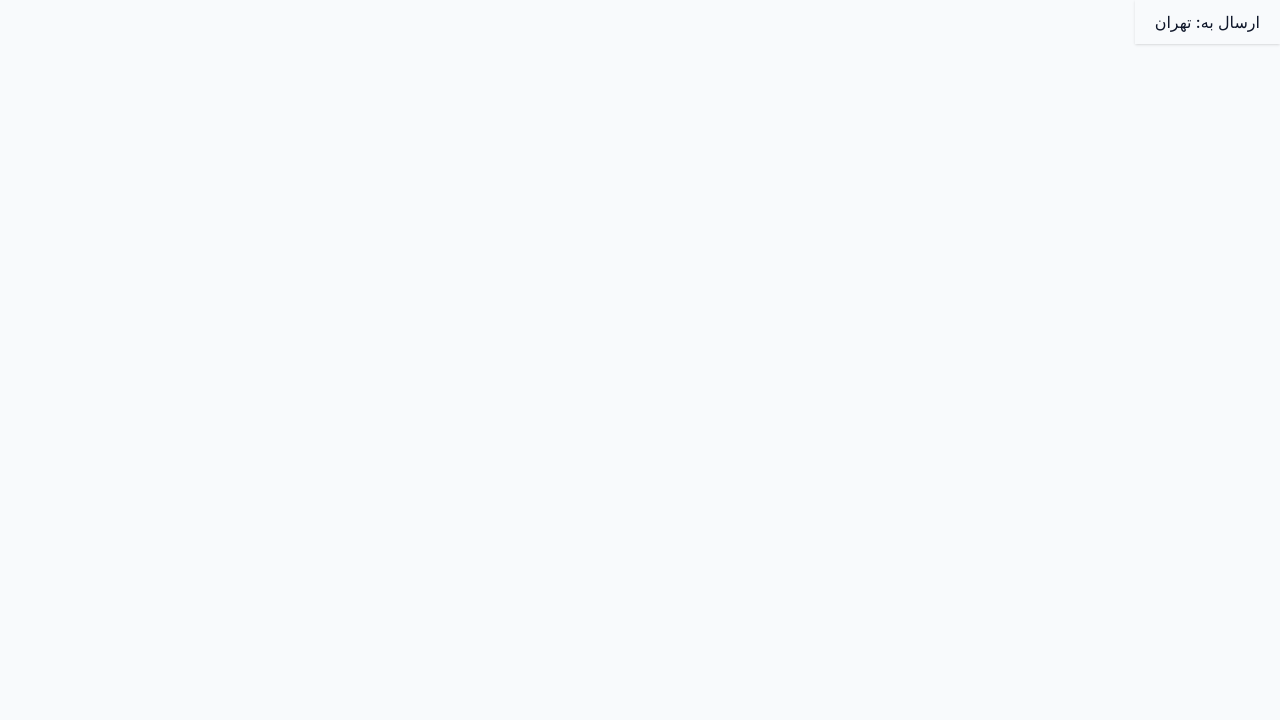
Test case: Popover › opens from its trigger, closes on Escape and from its close button
Click the button "ارسال به: تهران" at [1207, 22], box [1135,0,1279,44]
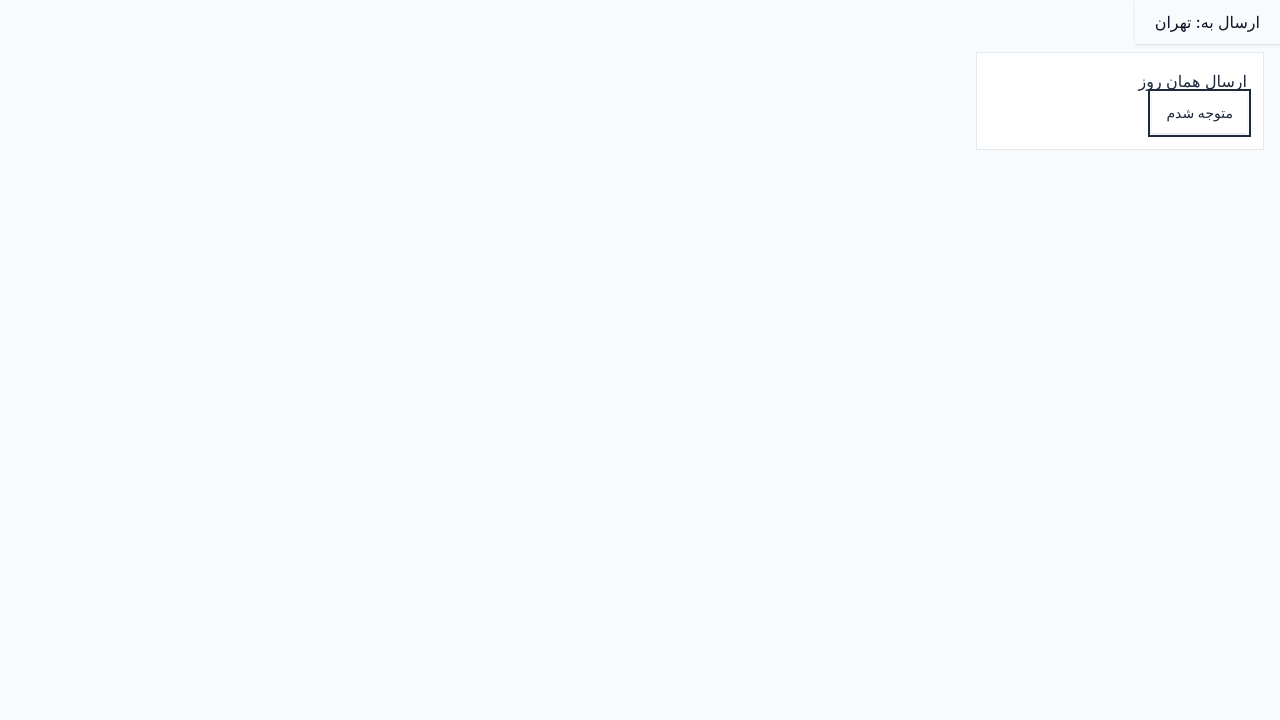
Result: the dialog shows "ارسال همان روز" at [1138,71,1247,91]
Press Escape
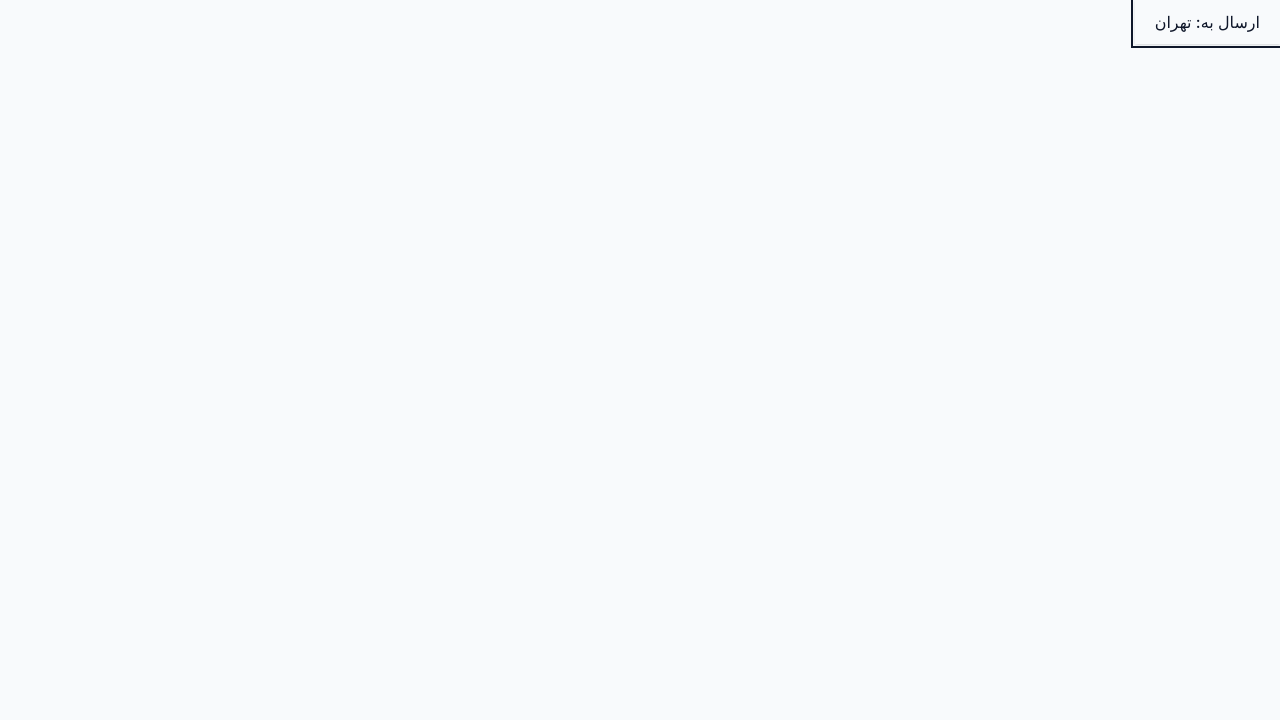
Result: the dialog is gone
Click the button "ارسال به: تهران" at [1207, 22], box [1135,0,1279,44]
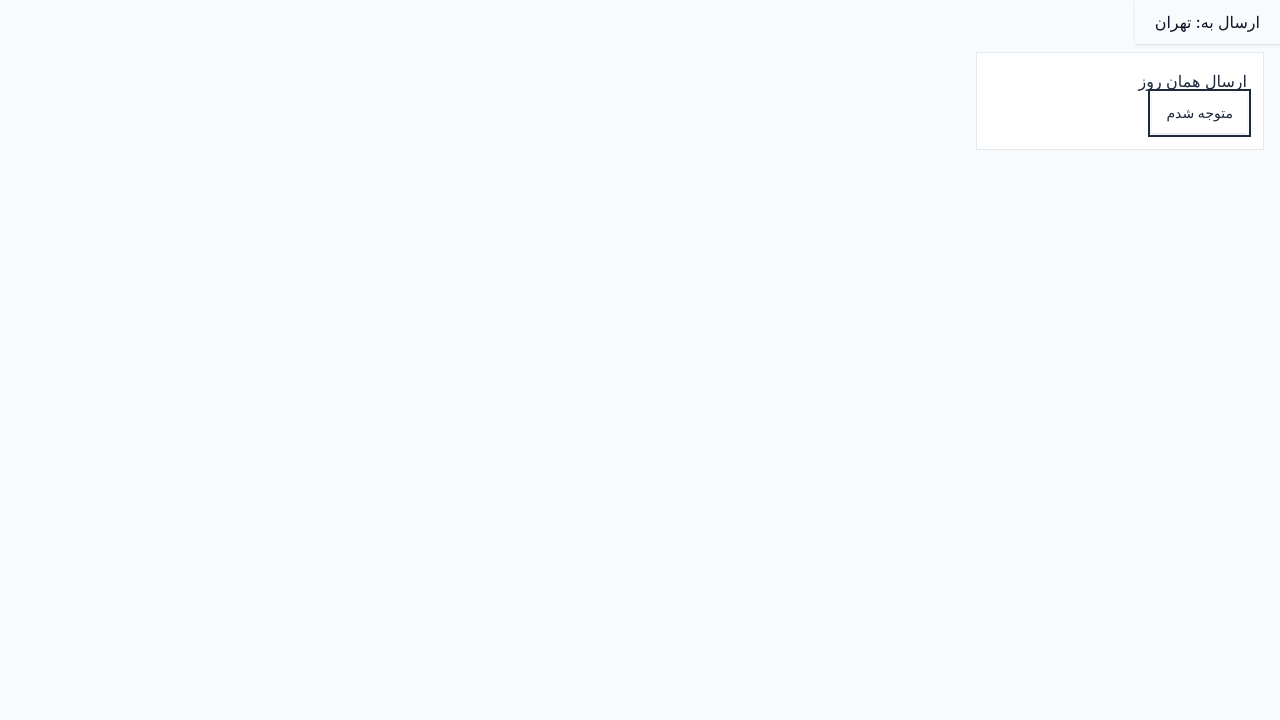
Click the button "متوجه شدم" at [1200, 113], box [1152,93,1247,133]
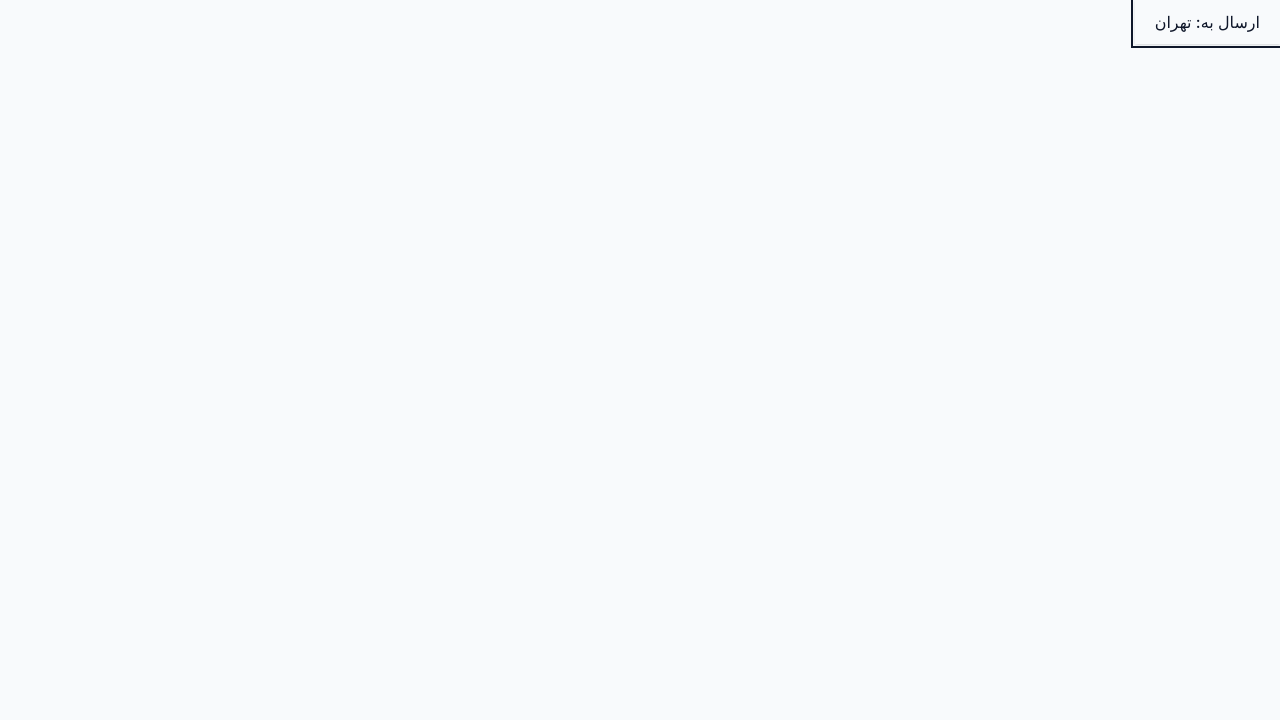
Result: the dialog is gone
